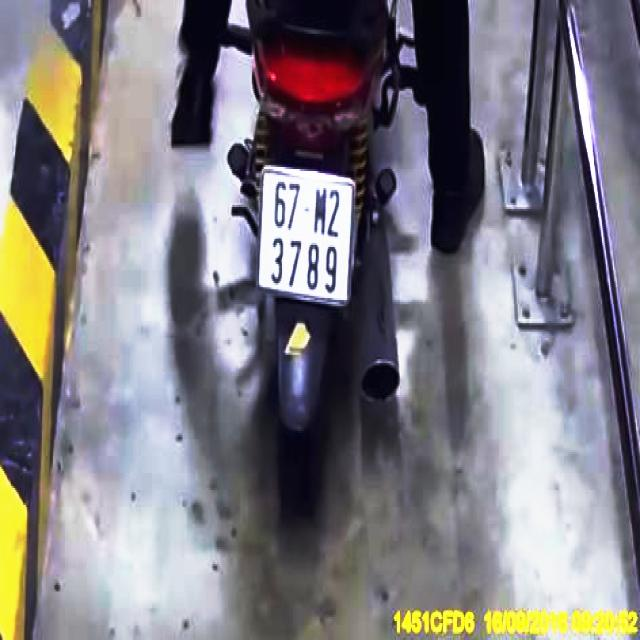license_plate: (257, 166, 358, 306)
